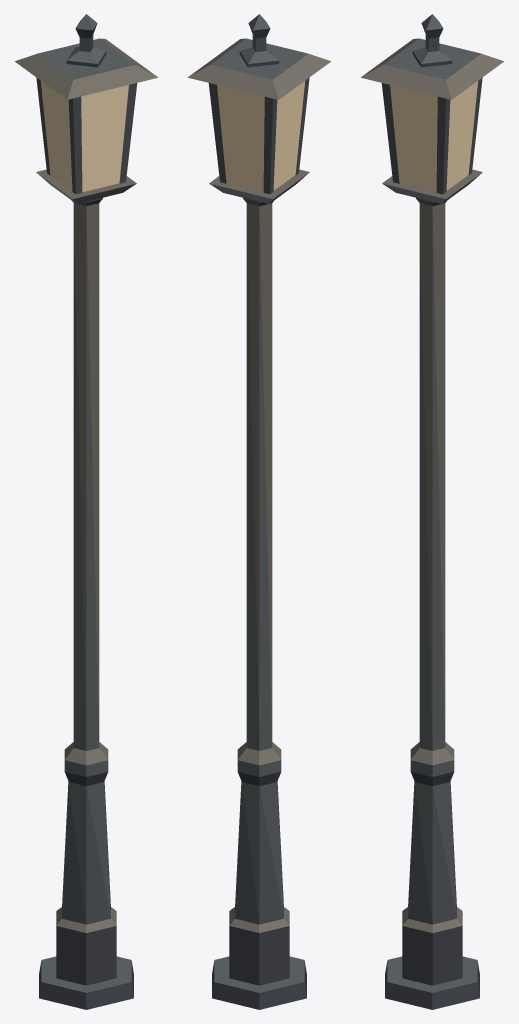
Rendered from lamp_post.fbx.
3 views of the same model, side by side, from view 1: azimuth 30°, elevation 25°; view 2: azimuth 150°, elevation 25°; view 3: azimuth 330°, elevation 25° (orthographic).
Parts seen in each view (by area): view 1: lamp_post, illumination_box; view 2: lamp_post, illumination_box; view 3: lamp_post, illumination_box.
Part boxes in pixels (x1,y1,x2,y2): lamp_post: (15,14,157,1009); illumination_box: (40,81,128,192); lamp_post: (188,14,330,1009); illumination_box: (217,81,305,192); lamp_post: (361,14,503,1009); illumination_box: (390,81,478,192).
Bounding box in the file's own units: 28.08 × 274 × 26.93.
Materials: 1 (1 with a texture image).
